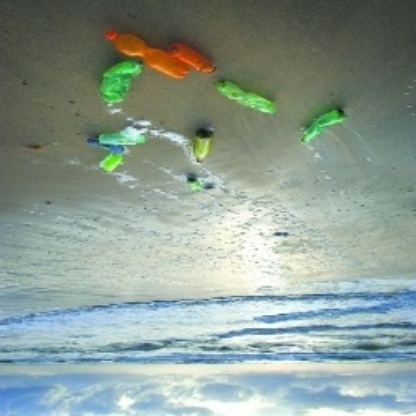bottle: (212, 75, 278, 117), (297, 102, 349, 151), (98, 57, 145, 109), (189, 127, 220, 164)
